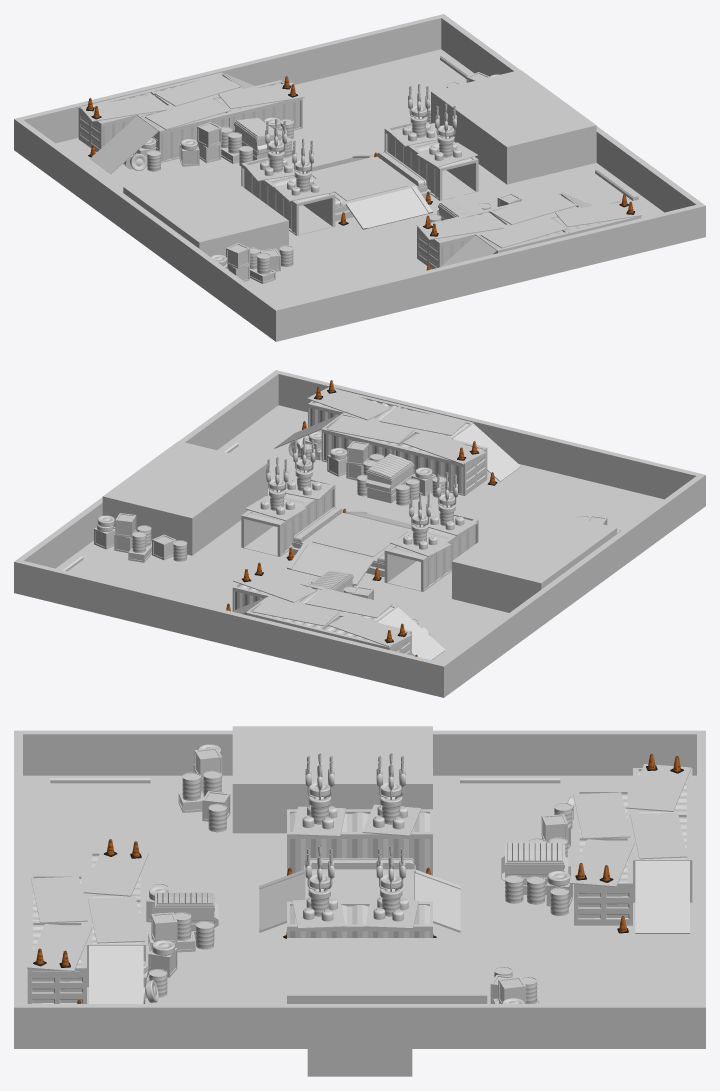
The model's file is Map(Jan17Test).FBX.
The picture shows the model from 3 angles, top to bottom: view 1: azimuth 30°, elevation 25°; view 2: azimuth 150°, elevation 25°; view 3: azimuth 270°, elevation 25°; orthographic projection. The views are drawn at different scales.
Parts seen in each view (by area): view 1: Ground, South Wall, East Building, West Wall, North Wall, West Building, East Wall, Crusher, MiddleContainer00, MiddleContainer01, South Ramp, Plywood00 (+27 smaller); view 2: Ground, North Wall, East Building, West Building, West Wall, South Wall, East Wall, Crusher, MiddleContainer01, MiddleContainer00, North Ramp, SideContainer03 (+24 smaller); view 3: Ground, East Wall, West Wall, West Building, East Building, Crusher, MiddleContainer01, Plywood05, Plywood15, South Wall, North Wall, MiddleContainer00 (+37 smaller).
Boxes of the visible parts, x1,y1,x2,y2 form: Ground: (56,49,663,306); South Wall: (272,203,705,341); East Building: (431,70,596,184); West Wall: (17,120,278,338); North Wall: (14,14,446,151); West Building: (123,165,288,256); East Wall: (441,16,701,212); Crusher: (311,151,430,221); MiddleContainer00: (384,122,478,200); MiddleContainer01: (241,157,335,235); South Ramp: (345,186,432,229); Plywood00: (90,116,158,174); Ground: (56,405,663,662); North Wall: (14,559,447,697); East Building: (102,441,267,555); West Building: (452,506,617,612); West Wall: (441,476,702,694); South Wall: (273,370,705,507); East Wall: (18,372,278,568); Crusher: (289,507,411,577); MiddleContainer01: (384,511,478,591); MiddleContainer00: (241,476,335,556); North Ramp: (287,542,374,585); SideContainer03: (393,430,487,495); Ground: (23,775,696,1003); East Wall: (23,1004,696,1048); West Wall: (23,730,696,775); West Building: (232,726,432,833); East Building: (287,938,487,1003); Crusher: (304,858,415,1076); MiddleContainer01: (287,809,432,875); Plywood05: (635,861,689,933); Plywood15: (89,945,143,1003); South Wall: (14,730,22,1048); North Wall: (697,730,705,1048); MiddleContainer00: (287,901,432,937).
Bounding box in the file's own units: 2835 × 1180 × 2992.
